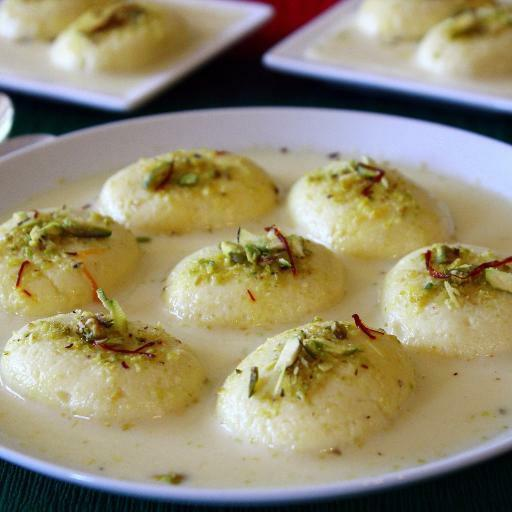RasMalai: (0, 145, 512, 488)
